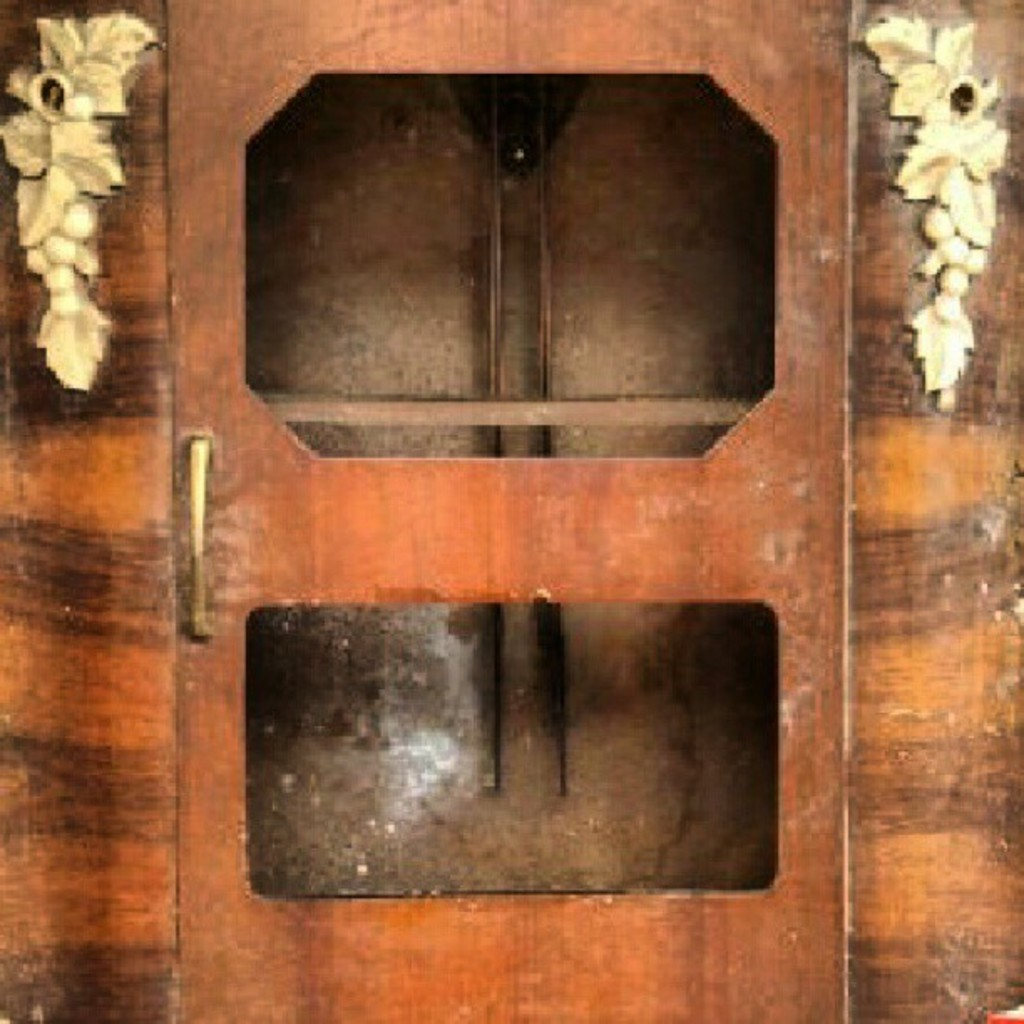Door: (164, 0, 853, 1019)
